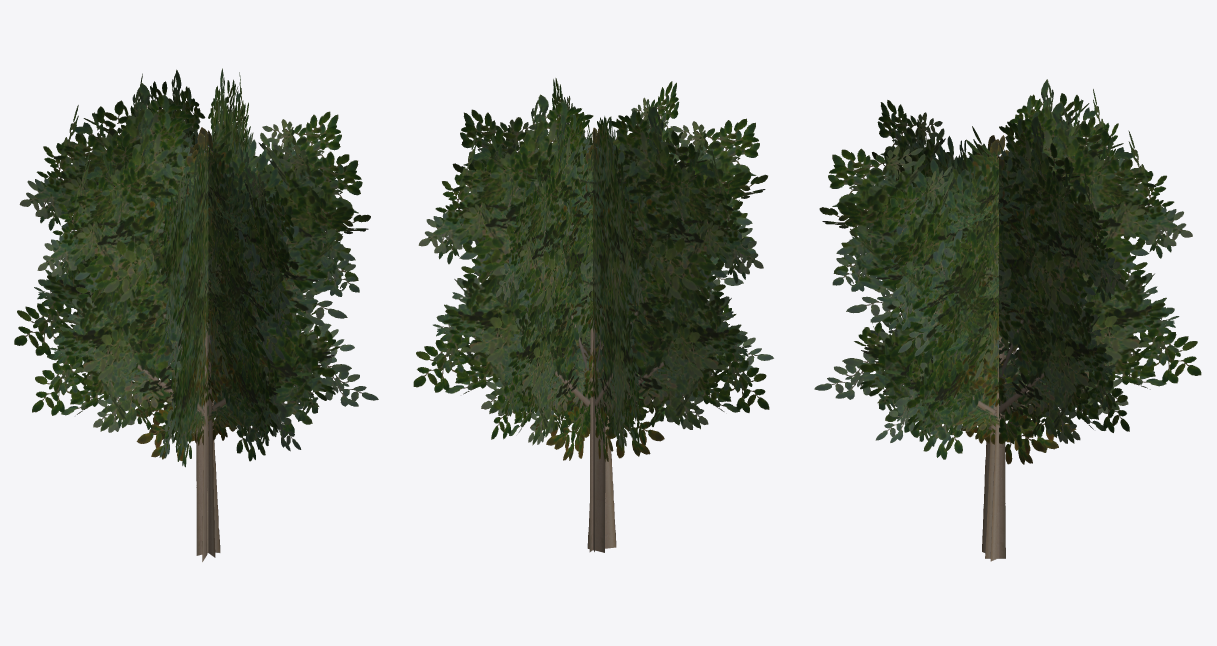
File: tree20.glb
3 renders of one model, left to right at view 1: azimuth 30°, elevation 25°; view 2: azimuth 150°, elevation 25°; view 3: azimuth 270°, elevation 25°, orthographic.
Parts seen in each view (by area): view 1: 2_LOD3.001; view 2: 2_LOD3.001; view 3: 2_LOD3.001.
Part boxes in pixels (x1,y1,x2,y2): 2_LOD3.001: (14, 68, 378, 561); 2_LOD3.001: (413, 78, 773, 552); 2_LOD3.001: (814, 79, 1201, 561).
Size of the model in its own units: 8.37 by 11.24 by 8.74.
Materials: 1 (1 with a texture image).
